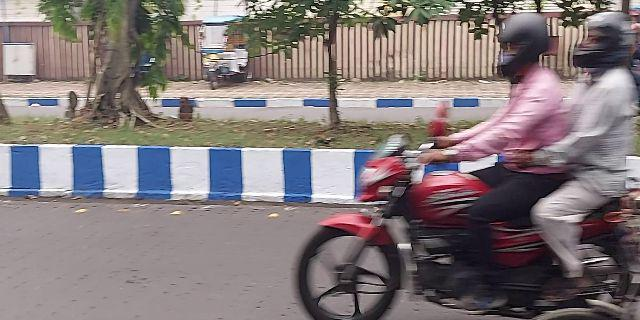Motorbike: (292, 118, 640, 317)
Rickshaw: (198, 14, 250, 82)
